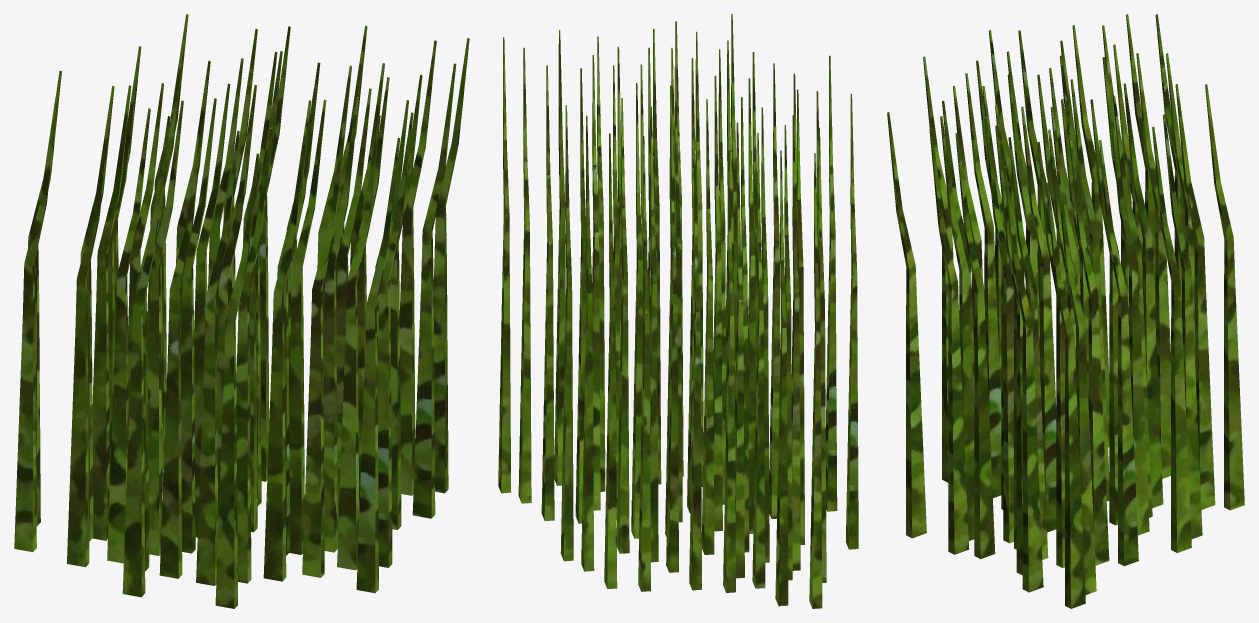
Rendered from Shrub_2_no_Chris.dae.
3 renders of one model, left to right at view 1: azimuth 30°, elevation 25°; view 2: azimuth 150°, elevation 25°; view 3: azimuth 270°, elevation 25°, orthographic. The views are drawn at different scales.
Visible parts, largest first — view 1: SketchUp (×47); view 2: SketchUp (×47); view 3: SketchUp (×48).
Part boxes in pixels (x1=…): SketchUp (×47): x1=14, y1=14, x2=469, y2=608; SketchUp (×47): x1=498, y1=14, x2=858, y2=608; SketchUp (×48): x1=887, y1=14, x2=1244, y2=608.
Size of the model in its own units: 10.93 by 9.16 by 12.38.
Materials: 1 (1 with a texture image).
